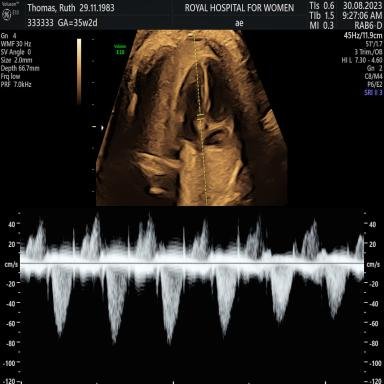Ultrasound-Waves: (25, 210, 363, 382)
